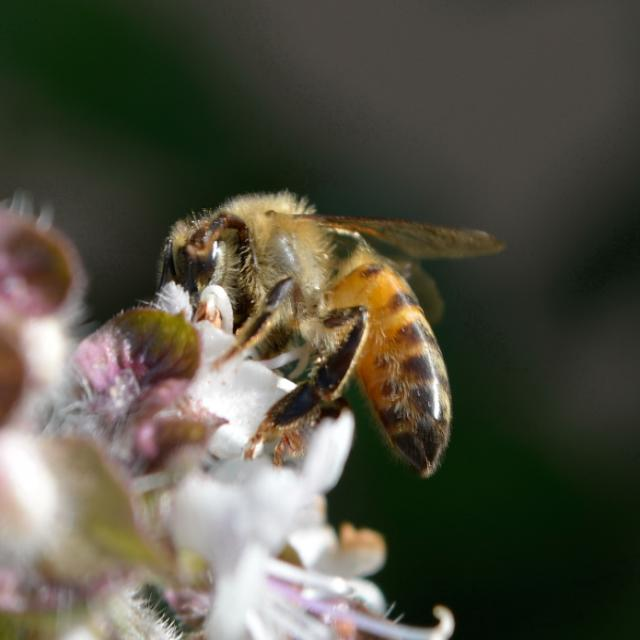Apis-mellifera-scutellata: (153, 150, 503, 510)
